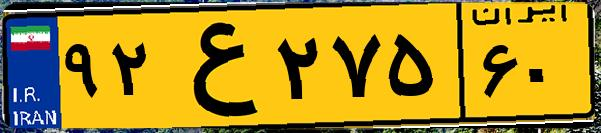0: (525, 38, 570, 115)
2: (270, 28, 330, 110), (110, 28, 158, 98)
5: (385, 28, 445, 110)
6: (475, 38, 525, 113)
7: (330, 28, 385, 110)
9: (57, 26, 110, 100)
ع: (158, 12, 270, 120)
